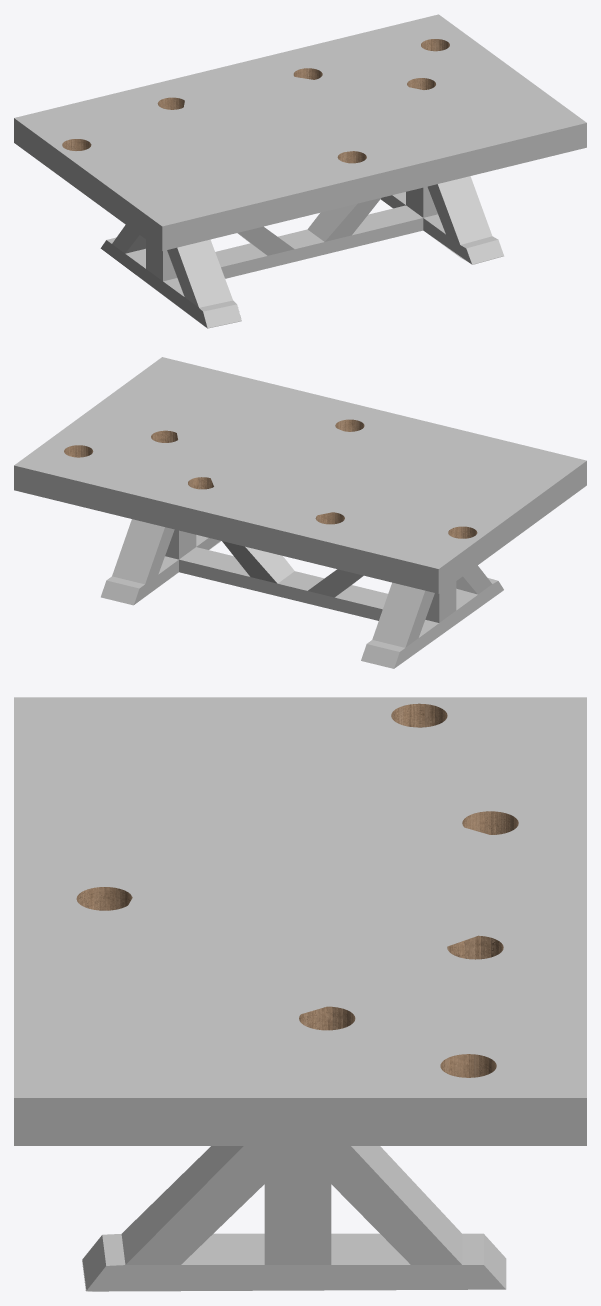
File: old_table.fbx
3 views of the same model, one above another, from view 1: azimuth 30°, elevation 25°; view 2: azimuth 150°, elevation 25°; view 3: azimuth 270°, elevation 25° (orthographic). The views are drawn at different scales.
Visible parts, largest first — view 1: Table; view 2: Table; view 3: Table.
Boxes of the visible parts, <box> form: Table: <box>14,14,586,328</box>; Table: <box>14,357,586,668</box>; Table: <box>14,697,586,1291</box>.
Size of the model in its own units: 914 by 270 by 552.
